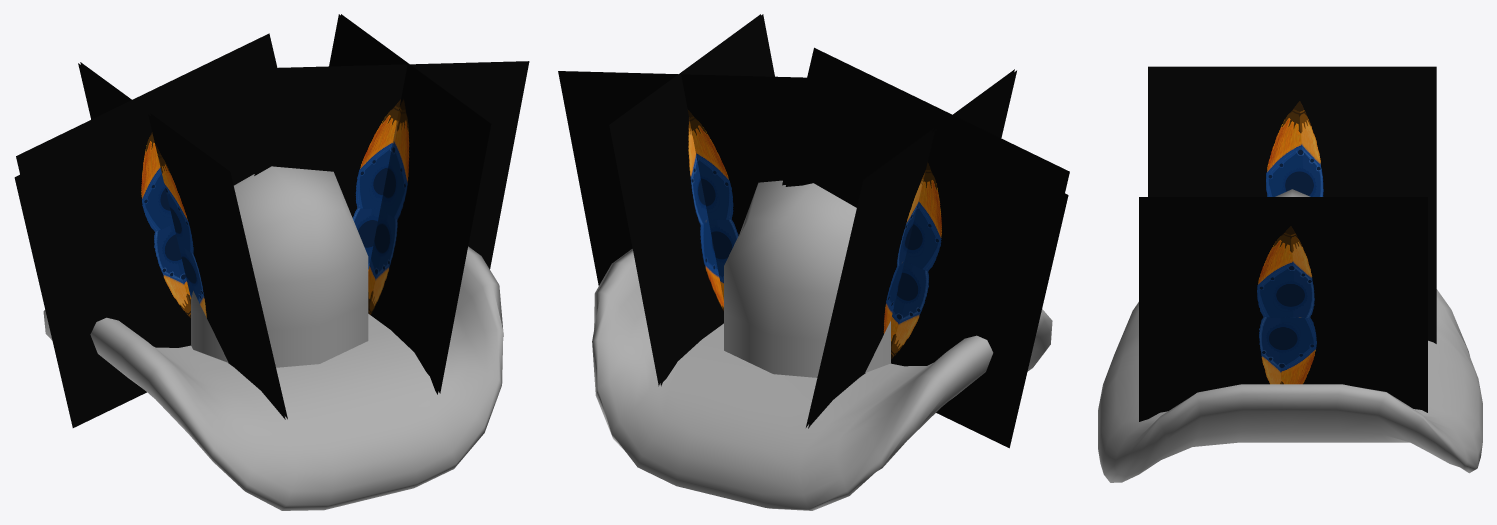
File: SM_Feather_Hat.fbx
3 renders of one model, left to right at view 1: azimuth 30°, elevation 25°; view 2: azimuth 150°, elevation 25°; view 3: azimuth 270°, elevation 25°, orthographic. The views are drawn at different scales.
Visible parts, largest first — view 1: polySurface6, polySurface1, polySurface4, polySurface2, pPlane7, polySurface3; view 2: polySurface6, pPlane7, polySurface2, polySurface4, polySurface1, polySurface3; view 3: polySurface3, pPlane7, polySurface6, polySurface4.
Boxes of the visible parts, x1=… form: polySurface6: x1=43, y1=166, x2=503, y2=510; polySurface1: x1=16, y1=33, x2=277, y2=406; polySurface4: x1=329, y1=14, x2=488, y2=394; polySurface2: x1=254, y1=61, x2=529, y2=270; pPlane7: x1=14, y1=62, x2=287, y2=427; polySurface3: x1=341, y1=14, x2=491, y2=393; polySurface6: x1=592, y1=180, x2=1052, y2=510; pPlane7: x1=785, y1=69, x2=1068, y2=448; polySurface2: x1=558, y1=71, x2=806, y2=300; polySurface4: x1=611, y1=14, x2=774, y2=386; polySurface1: x1=782, y1=47, x2=1069, y2=192; polySurface3: x1=609, y1=14, x2=760, y2=386; polySurface3: x1=1139, y1=198, x2=1427, y2=421; pPlane7: x1=1148, y1=66, x2=1436, y2=343; polySurface6: x1=1098, y1=189, x2=1482, y2=482; polySurface4: x1=1139, y1=197, x2=1427, y2=198.
Size of the model in its own units: 3.18 by 2.33 by 2.16.
Materials: 3 (1 with a texture image).
